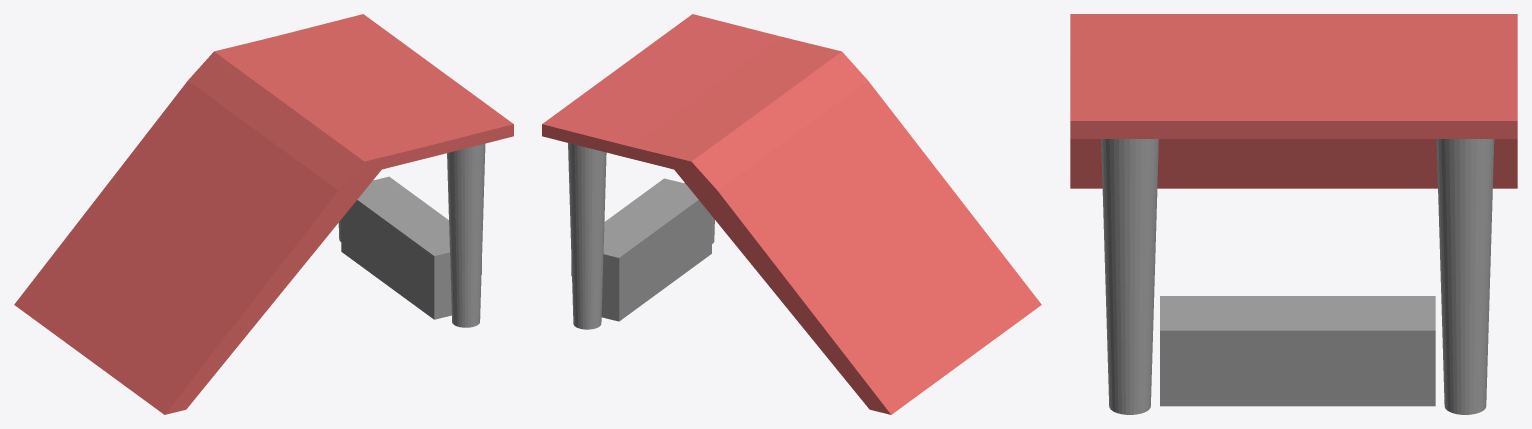
Rendered from store.fbx.
3 views of the same model, side by side, from view 1: azimuth 30°, elevation 25°; view 2: azimuth 150°, elevation 25°; view 3: azimuth 270°, elevation 25° (orthographic). The views are drawn at different scales.
Parts seen in each view (by area): view 1: Cube; view 2: Cube; view 3: Cube.
Boxes of the visible parts, x1,y1,x2,y2 form: Cube: [14, 14, 513, 414]; Cube: [542, 14, 1041, 414]; Cube: [1070, 14, 1517, 414].
Size of the model in its own units: 804 by 452 by 600.
